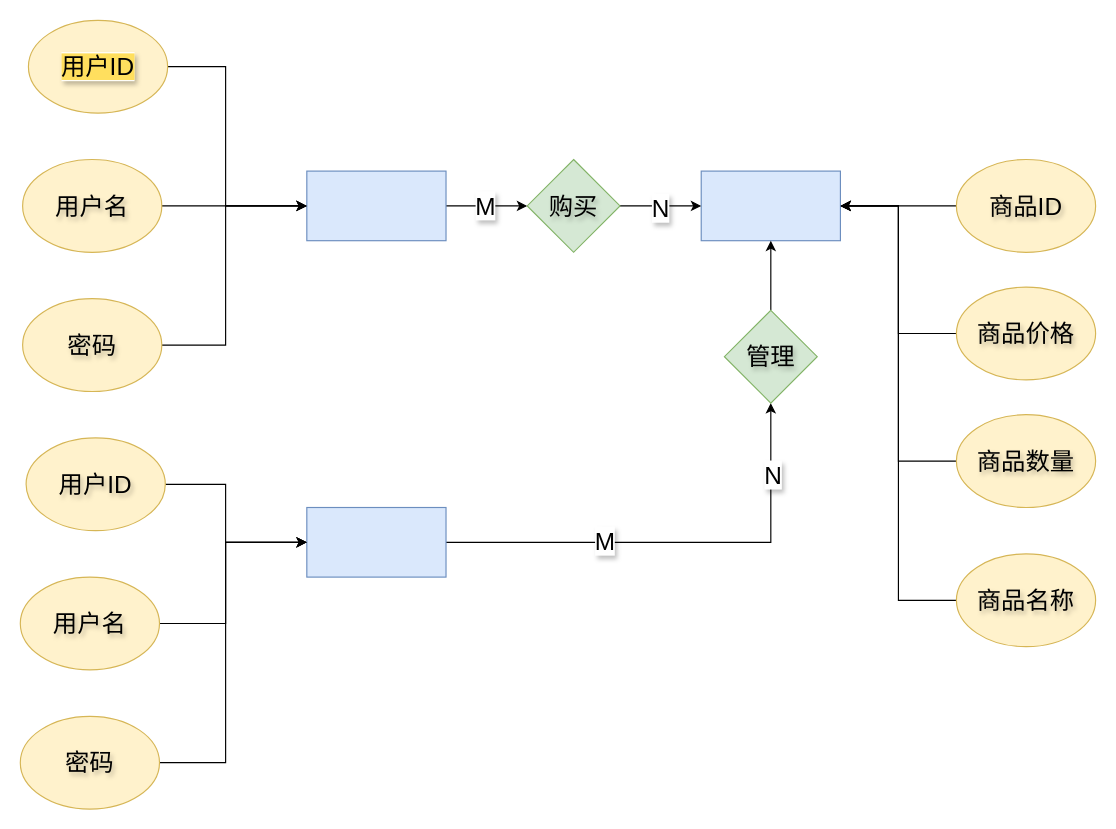
The diagram is 1116 pixels wide and 829 high, and some of its shapes have lost their labels. The shapes that lost their labels are listed below. From the top down, each one's centre as x and y in pixels, then its label:
At [376,205]: "用户".
At [770,205]: "商品".
At [376,541]: "管理员".
